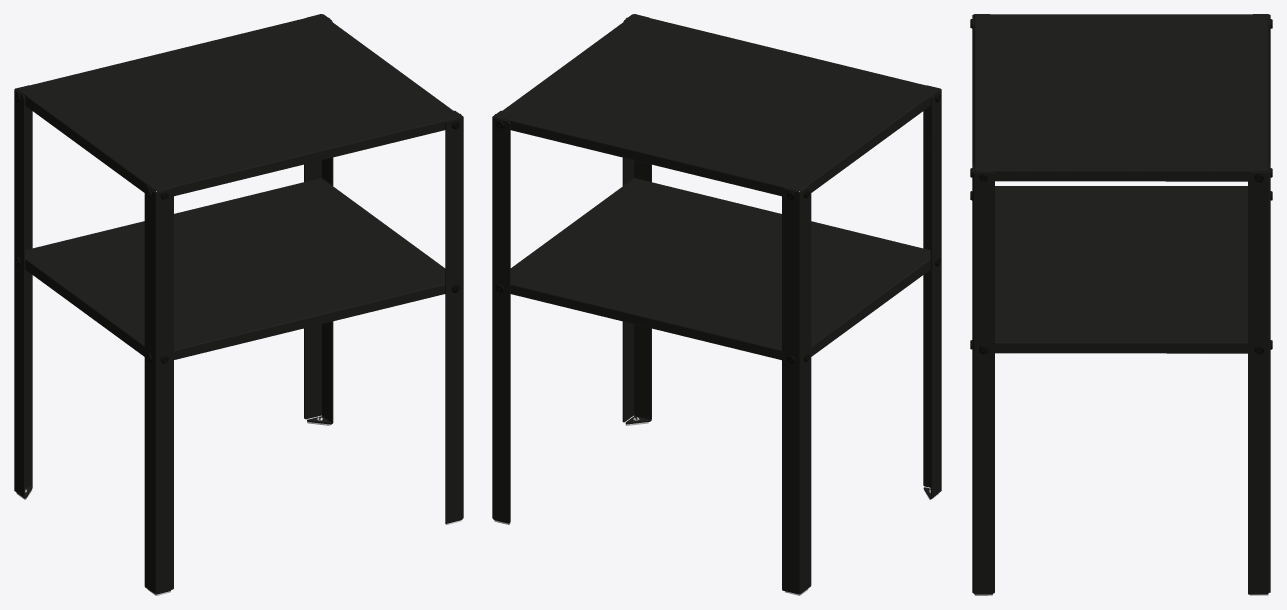
3 views of the same model, side by side, from view 1: azimuth 30°, elevation 25°; view 2: azimuth 150°, elevation 25°; view 3: azimuth 270°, elevation 25° (orthographic). The views are drawn at different scales.
Parts seen in each view (by area): view 1: ASY_ART_20569977_S01_NV01, ASY_LPT21_20569977_S01_NV01; view 2: ASY_ART_20569977_S01_NV01, ASY_LPT21_20569977_S01_NV01; view 3: ASY_ART_20569977_S01_NV01, ASY_LPT21_20569977_S01_NV01.
Part boxes in pixels (x1=…): ASY_ART_20569977_S01_NV01: x1=15, y1=14, x2=461, y2=363; ASY_LPT21_20569977_S01_NV01: x1=14, y1=14, x2=463, y2=595; ASY_ART_20569977_S01_NV01: x1=494, y1=14, x2=940, y2=363; ASY_LPT21_20569977_S01_NV01: x1=492, y1=14, x2=941, y2=595; ASY_ART_20569977_S01_NV01: x1=970, y1=14, x2=1272, y2=354; ASY_LPT21_20569977_S01_NV01: x1=972, y1=14, x2=1270, y2=595.
Bounding box in the file's own units: 0.42 × 0.52 × 0.3351.
Materials: 2 (2 with a texture image).
